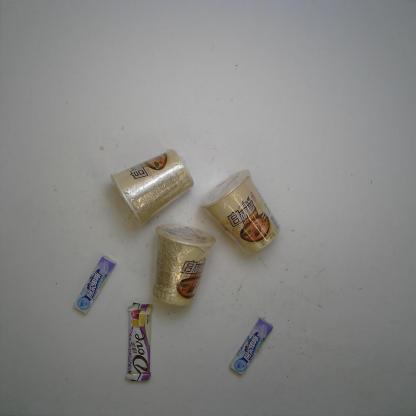Candy: (224, 315, 275, 381), (71, 254, 118, 320)
Chocolate: (121, 298, 156, 384)
Instant Noodles: (198, 168, 285, 258), (106, 147, 197, 232), (146, 221, 221, 309)
